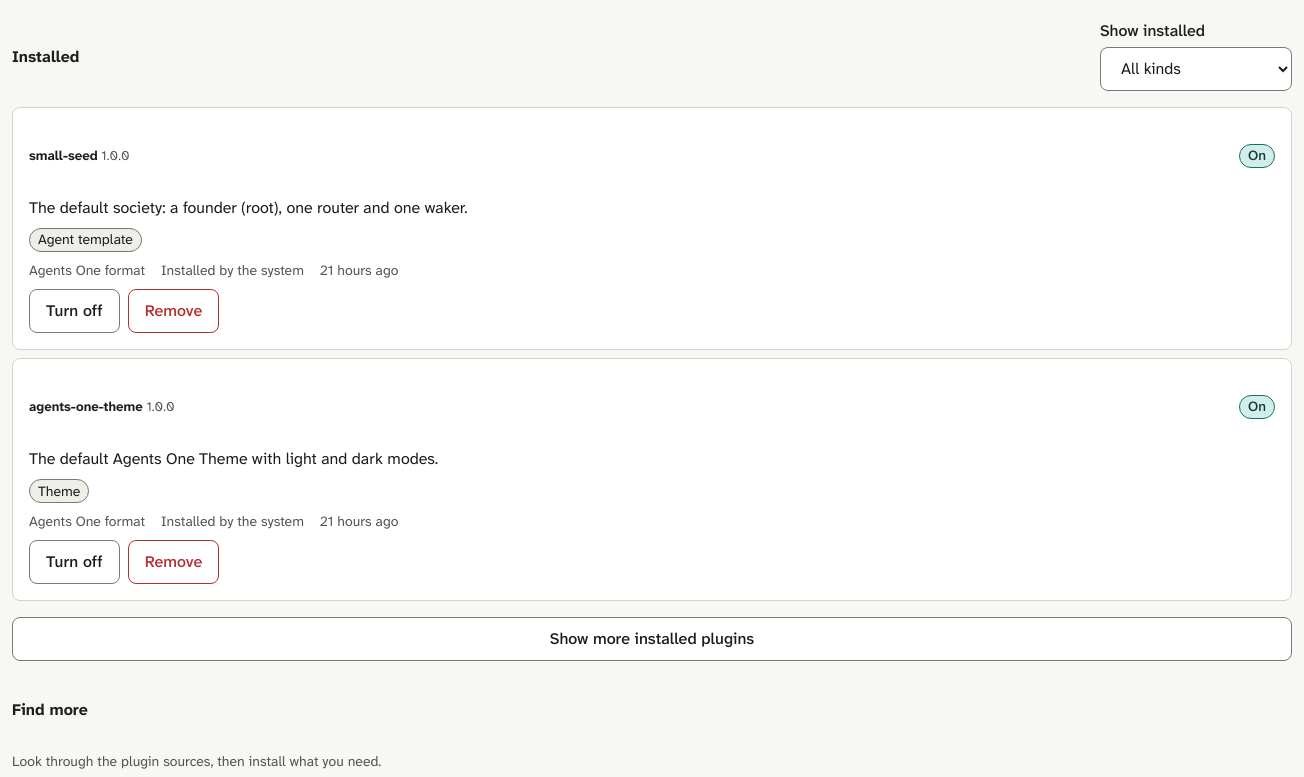
Test case: Plugins panel, installed › loads more plugins a page at a time
The image size is (1304, 777).
Expected: the text "pdf" is not shown
Click the button "Show more installed plugins": (652, 639) x1=12 y1=617 x2=1292 y2=661
(page scrolled)
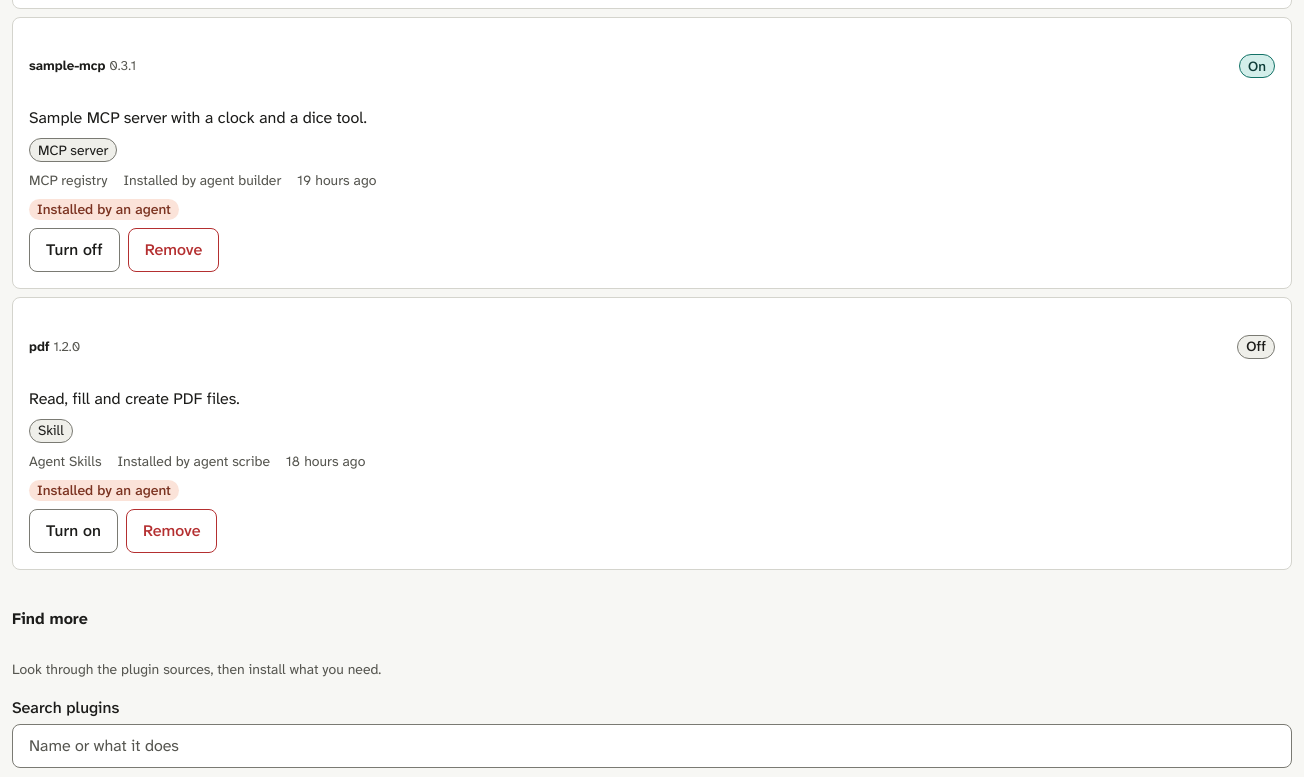
Expected: the list item that starts with "pdf" is shown, x1=12 y1=297 x2=1292 y2=570
